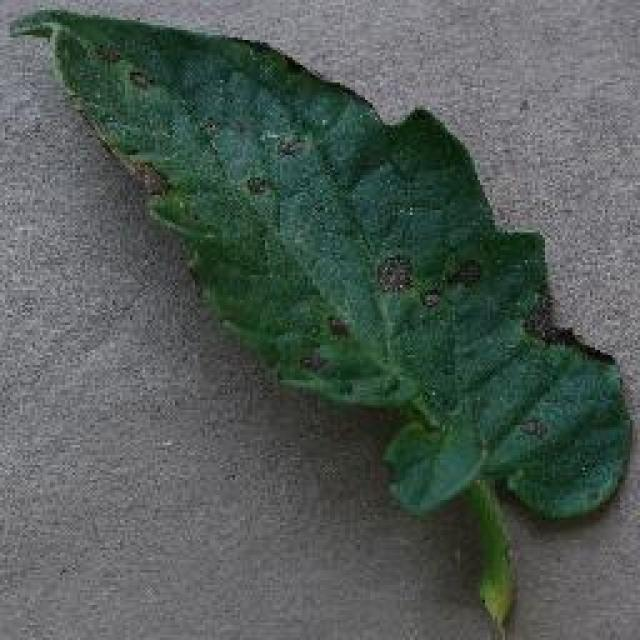Tomato Early blight leaf: (9, 6, 635, 524)
